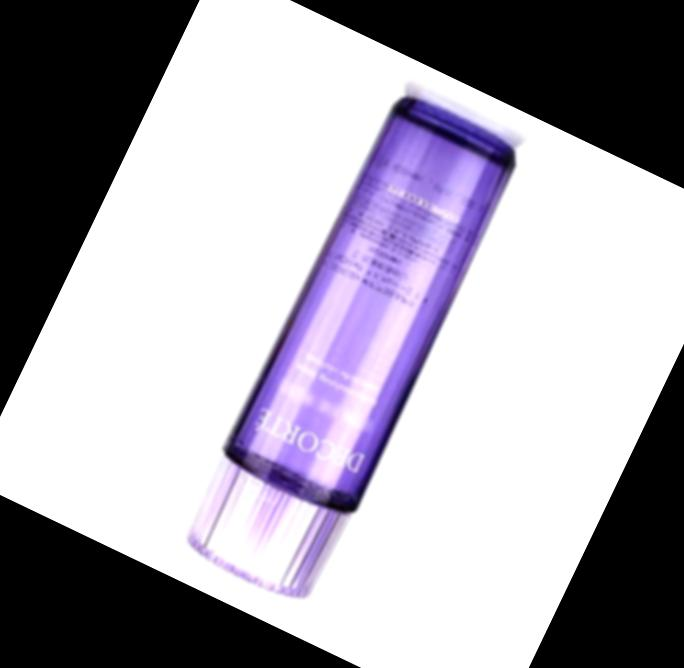cosmetic: (173, 84, 536, 609)
